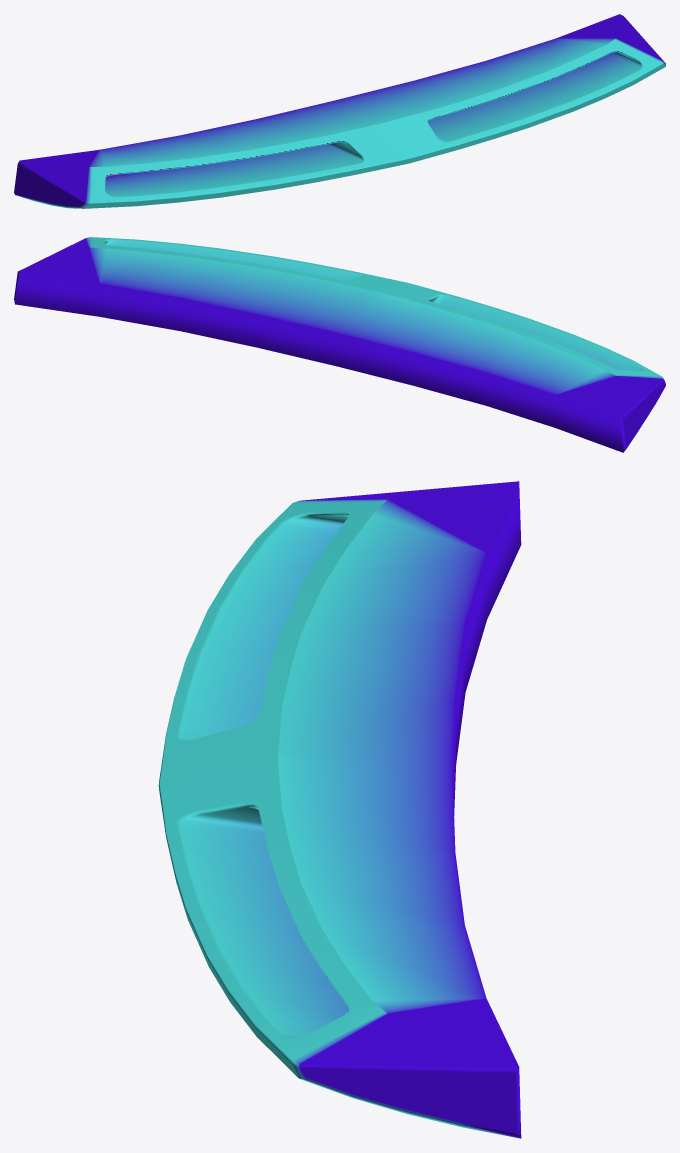
Rendered from Car_Ford_GT_2017_Splitter_SetA.fbx.
3 views of the same model, one above another, from view 1: azimuth 30°, elevation 25°; view 2: azimuth 150°, elevation 25°; view 3: azimuth 270°, elevation 25° (orthographic). The views are drawn at different scales.
Parts seen in each view (by area): view 1: Splitter 6; view 2: Splitter 6; view 3: Splitter 6.
Boxes of the visible parts, x1,y1,x2,y2 form: Splitter 6: (14, 14, 665, 208); Splitter 6: (14, 237, 665, 452); Splitter 6: (158, 481, 521, 1138).
Bounding box in the file's own units: 1.27 × 0.0841 × 0.3241.
